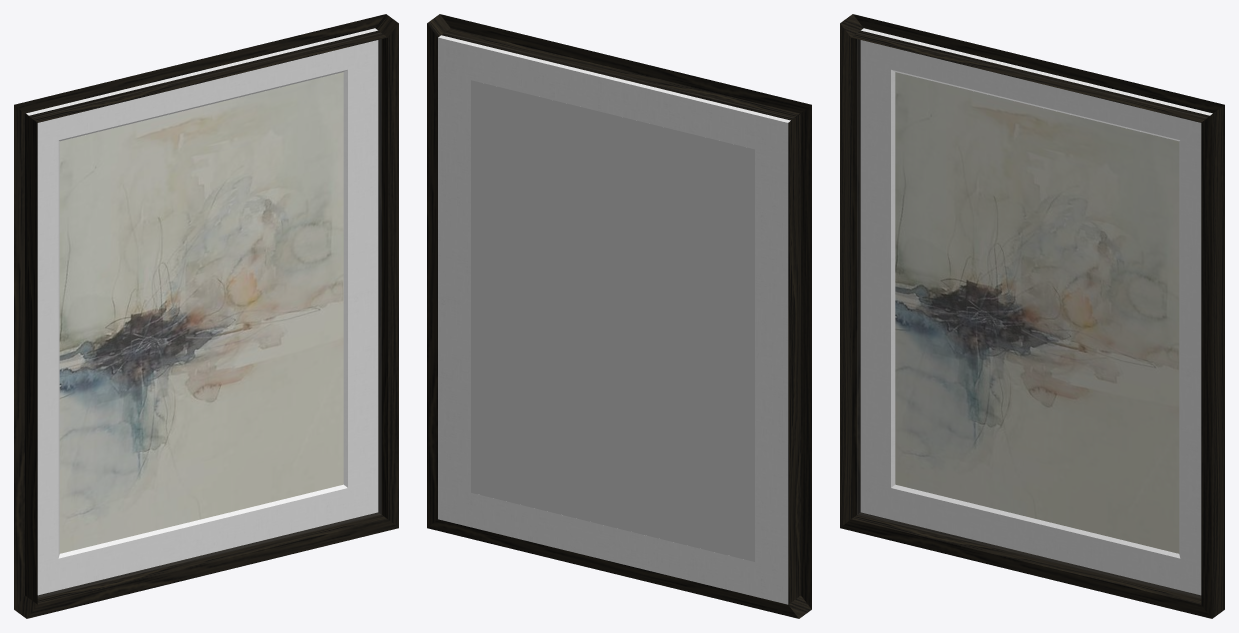
The model's file is decor_art_large.glb.
3 views of the same model, side by side, from view 1: azimuth 30°, elevation 25°; view 2: azimuth 150°, elevation 25°; view 3: azimuth 330°, elevation 25° (orthographic).
Parts seen in each view (by area): view 1: Geom3D (×6); view 2: Geom3D_, Geom3D (×5); view 3: Geom3D (×6).
Boxes of the visible parts, left/top/right/bottom form: Geom3D (×6): left=14, top=14, right=398, bottom=618; Geom3D_: left=471, top=80, right=754, bottom=561; Geom3D (×5): left=427, top=14, right=811, bottom=618; Geom3D (×6): left=840, top=14, right=1224, bottom=618.
Bounding box in the file's own units: 0.8573 × 1.11 × 0.0508.
4 materials, 3 textured.
